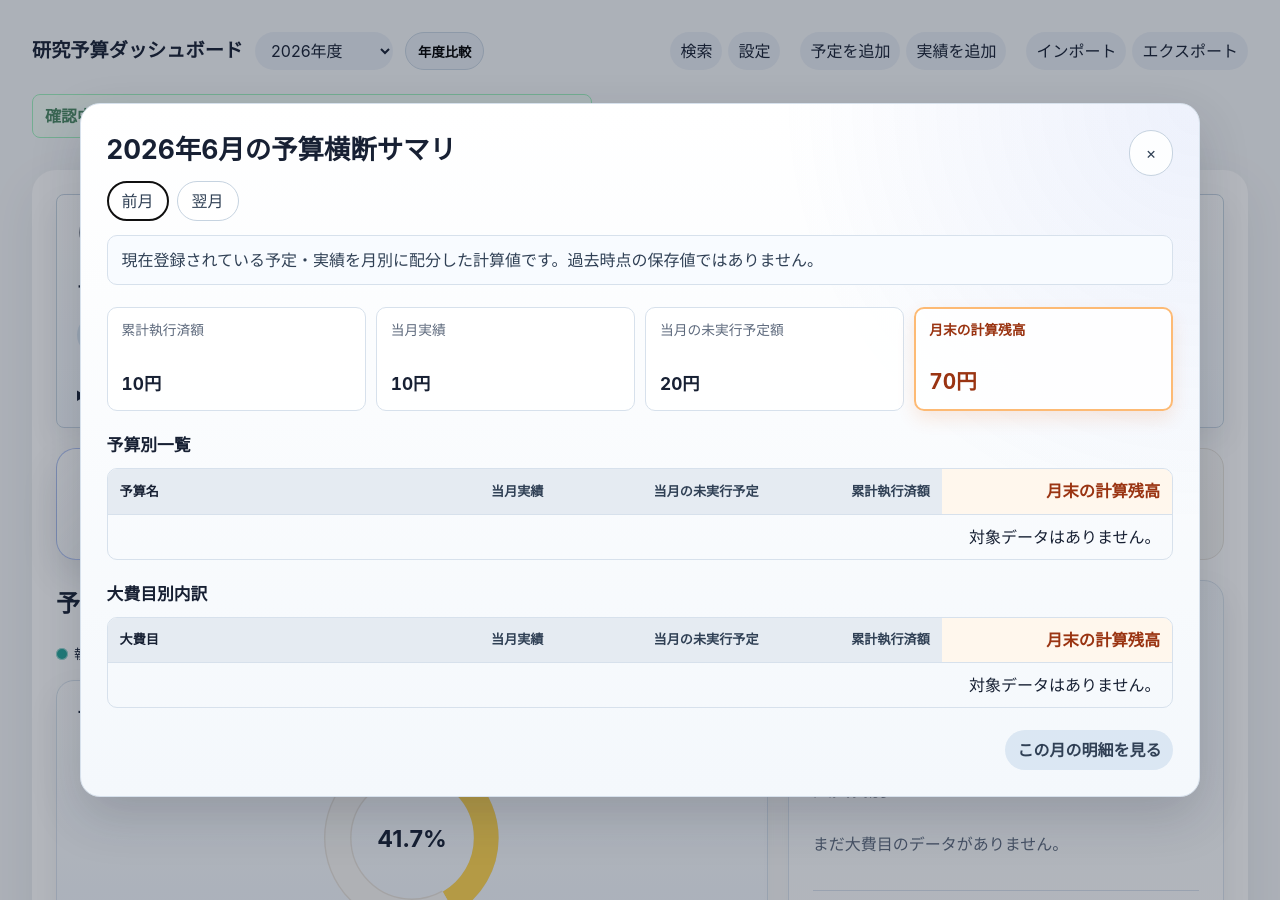
Demo tutorial › waits for a directly opened monthly summary to close before prompting
The image size is (1280, 900).
Expected: the dialog "チュートリアルを始めますか？" is not shown
Click the button named "月別サマリを閉じる".
click(1151, 152)  # box [1129, 130, 1173, 176]
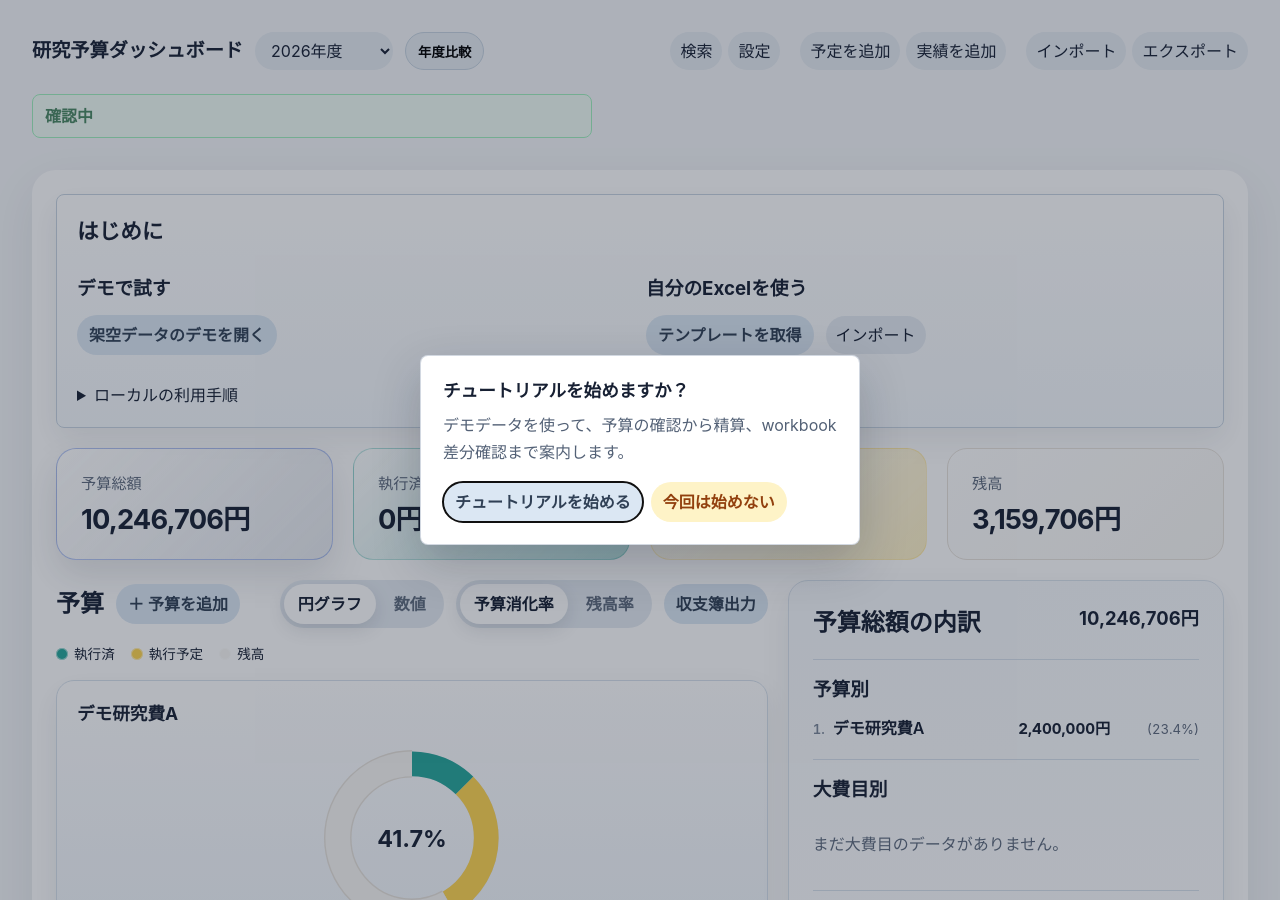
Result: the dialog "チュートリアルを始めますか？" is shown at [420, 355, 860, 545]
